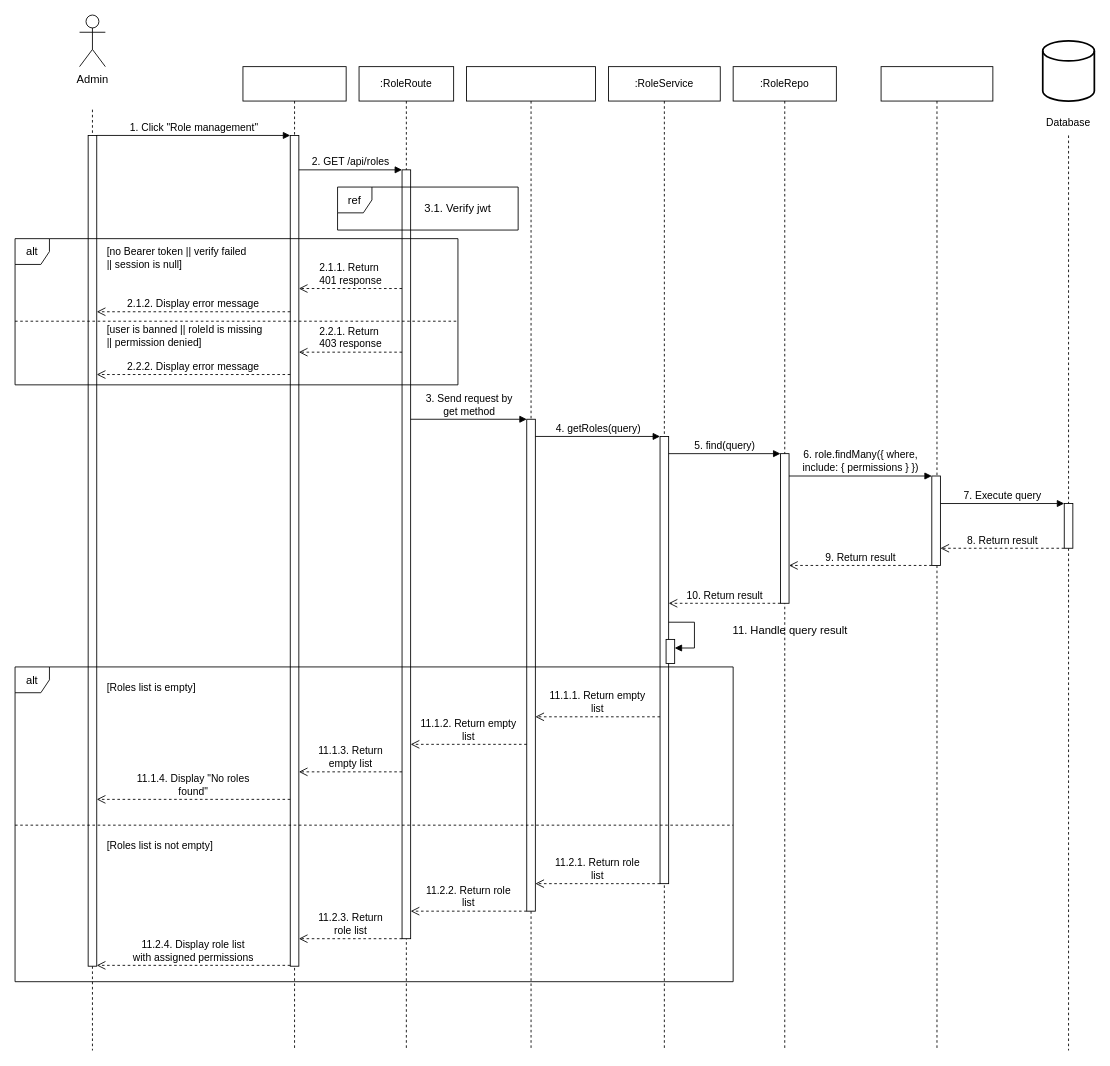
Some shapes in this 1110 by 1066 pixel diagram are drawn without their labels. The shapes that lost their labels are listed below. From the top down, each one's box as (x1, y1, x2, y2) in pixels, then its label:
(242, 66, 346, 1050): :RoleView
(466, 66, 596, 1050): :RoleController
(880, 66, 993, 1050): :PrismaService
